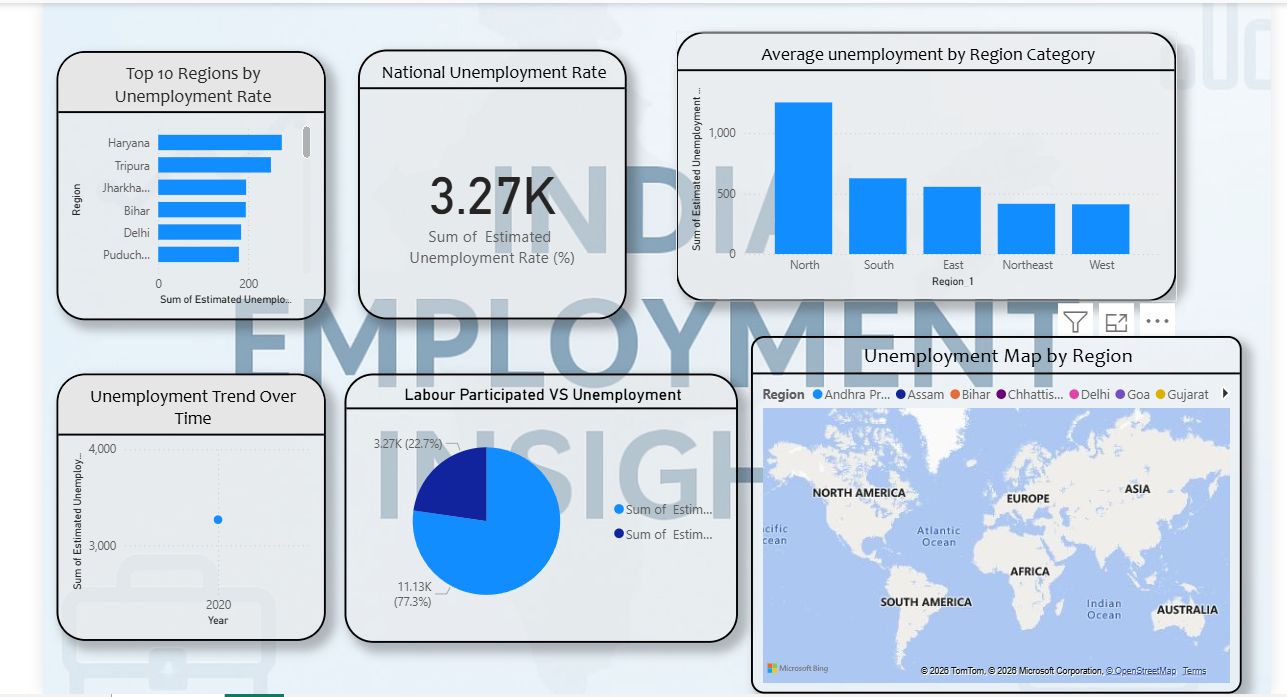

The dashboard page shown, as its layout file describes it:
{"tool":"powerbi","page":{"name":"Page 1","canvas":[1280,720],"ordinal":0},"visuals":[{"type":"lineChart","title":"Unemployment Trend Over Time","fields":{"Category":["unemployment. Date.Variation.Date Hierarchy.Year","unemployment. Date.Variation.Date Hierarchy.Quarter","unemployment. Date.Variation.Date Hierarchy.Month","unemployment. Date.Variation.Date Hierarchy.Day"],"Y":["Sum(unemployment. Estimated Unemployment Rate (%))"]},"box":[14.8,385.8,280.6,278.8],"z":0},{"type":"barChart","title":"Top 10 Regions by Unemployment Rate","fields":{"Y":["Sum(unemployment. Estimated Unemployment Rate (%))"],"Category":["unemployment.Region"]},"box":[14.8,49.8,280.6,280.6],"z":1000},{"type":"card","title":"National Unemployment Rate","fields":{"Values":["Sum(unemployment. Estimated Unemployment Rate (%))"]},"box":[328.8,49.1,279.7,281.6],"z":2000},{"type":"pieChart","title":"Labour Participated VS Unemployment","fields":{"Y":["Sum(unemployment. Estimated Labour Participation Rate (%))","Sum(unemployment. Estimated Unemployment Rate (%))"]},"box":[313.8,385.8,409.8,280.6],"z":3000},{"type":"lineStackedColumnComboChart","title":"Average unemployment by Region Category","fields":{"Category":["unemployment.Region_1"],"Y":["Sum(unemployment. Estimated Unemployment Rate (%))"]},"box":[659.5,30.2,521.6,281.6],"z":4000},{"type":"filledMap","title":"Unemployment Map by Region","fields":{"Series":["unemployment.Region"],"X":["Sum(unemployment.longitude)"],"Y":["Sum(unemployment.latitude)"]},"box":[738.5,347.1,511.4,372.9],"z":5000}]}

Visuals, with their boxes in screenshot pixels (x1, y1, x2, y2):
"Unemployment Trend Over Time" lineChart: locate(58, 368, 326, 635)
"Top 10 Regions by Unemployment Rate" barChart: locate(58, 48, 326, 315)
"National Unemployment Rate" card: locate(358, 47, 625, 316)
"Labour Participated VS Unemployment" pieChart: locate(343, 368, 734, 636)
"Average unemployment by Region Category" lineStackedColumnComboChart: locate(673, 29, 1171, 298)
"Unemployment Map by Region" filledMap: locate(749, 331, 1237, 687)
